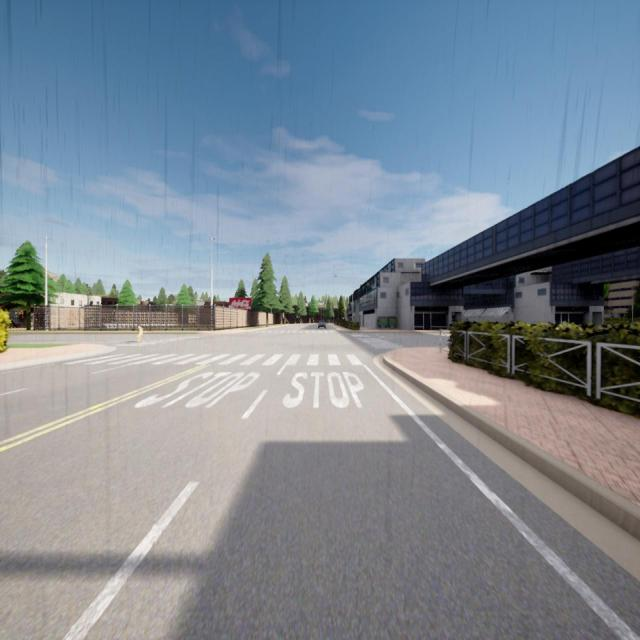Pedestrian: (136, 323, 142, 342)
Vehicle: (318, 320, 326, 329)
